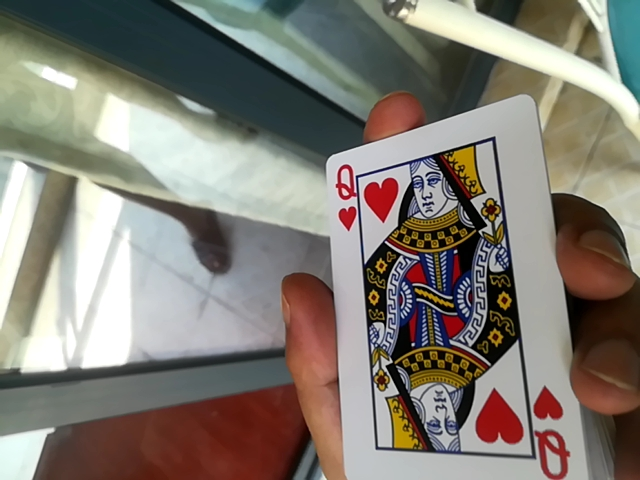hx q: (323, 98, 594, 480)
